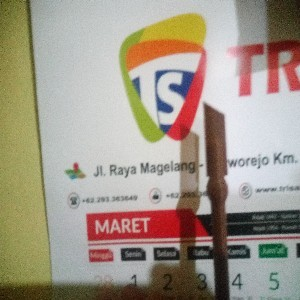cutter: (202, 100, 231, 300)
